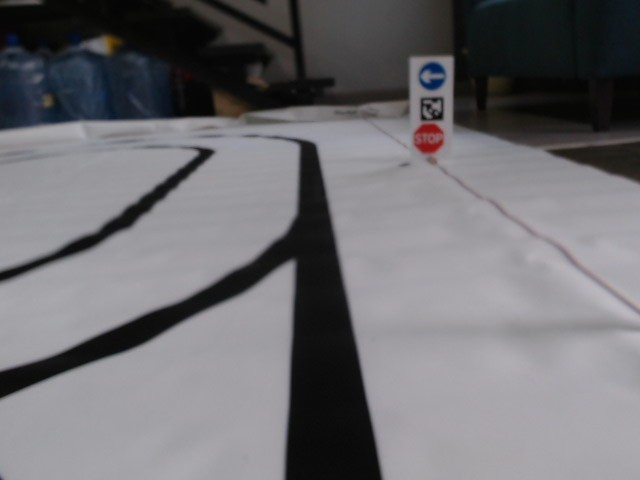Stop: (413, 123, 444, 154)
